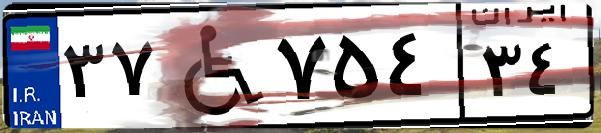3: (57, 26, 110, 100), (475, 38, 525, 113)
4: (385, 28, 445, 110), (525, 38, 570, 115)
5: (330, 28, 385, 110)
7: (270, 28, 330, 110), (110, 28, 158, 98)
ژ (معلولین و جانبازان): (158, 12, 270, 120)
